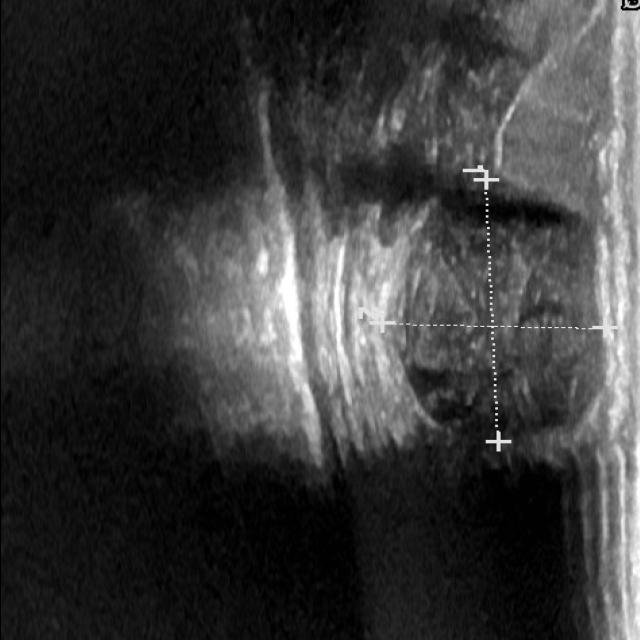Benign: (408, 196, 600, 434)
